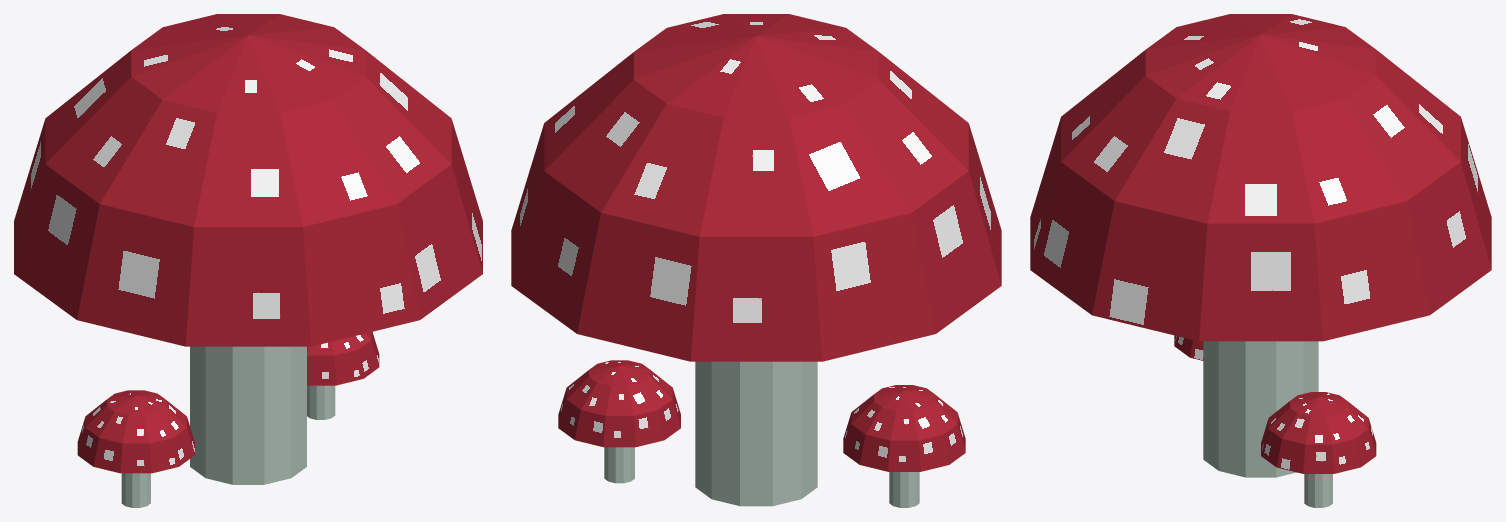
File: Grass_Mushroom.fbx
3 renders of one model, left to right at view 1: azimuth 30°, elevation 25°; view 2: azimuth 150°, elevation 25°; view 3: azimuth 270°, elevation 25°, orthographic. The views are drawn at different scales.
Visible parts, largest first — view 1: Big Mushroom, Small Mushroom, Small Mushroom_1; view 2: Big Mushroom, Small Mushroom_1, Small Mushroom; view 3: Big Mushroom, Small Mushroom_1, Small Mushroom.
Part boxes in pixels (bbox=[...]): Big Mushroom: bbox=[14, 14, 482, 484]; Small Mushroom: bbox=[77, 390, 194, 507]; Small Mushroom_1: bbox=[307, 332, 379, 419]; Big Mushroom: bbox=[511, 14, 1001, 506]; Small Mushroom_1: bbox=[558, 360, 680, 483]; Small Mushroom: bbox=[843, 385, 965, 507]; Big Mushroom: bbox=[1030, 14, 1491, 477]; Small Mushroom_1: bbox=[1261, 392, 1376, 507]; Small Mushroom: bbox=[1174, 335, 1203, 360].
Size of the model in its own units: 100 by 100 by 100.
1 material, 1 textured.
